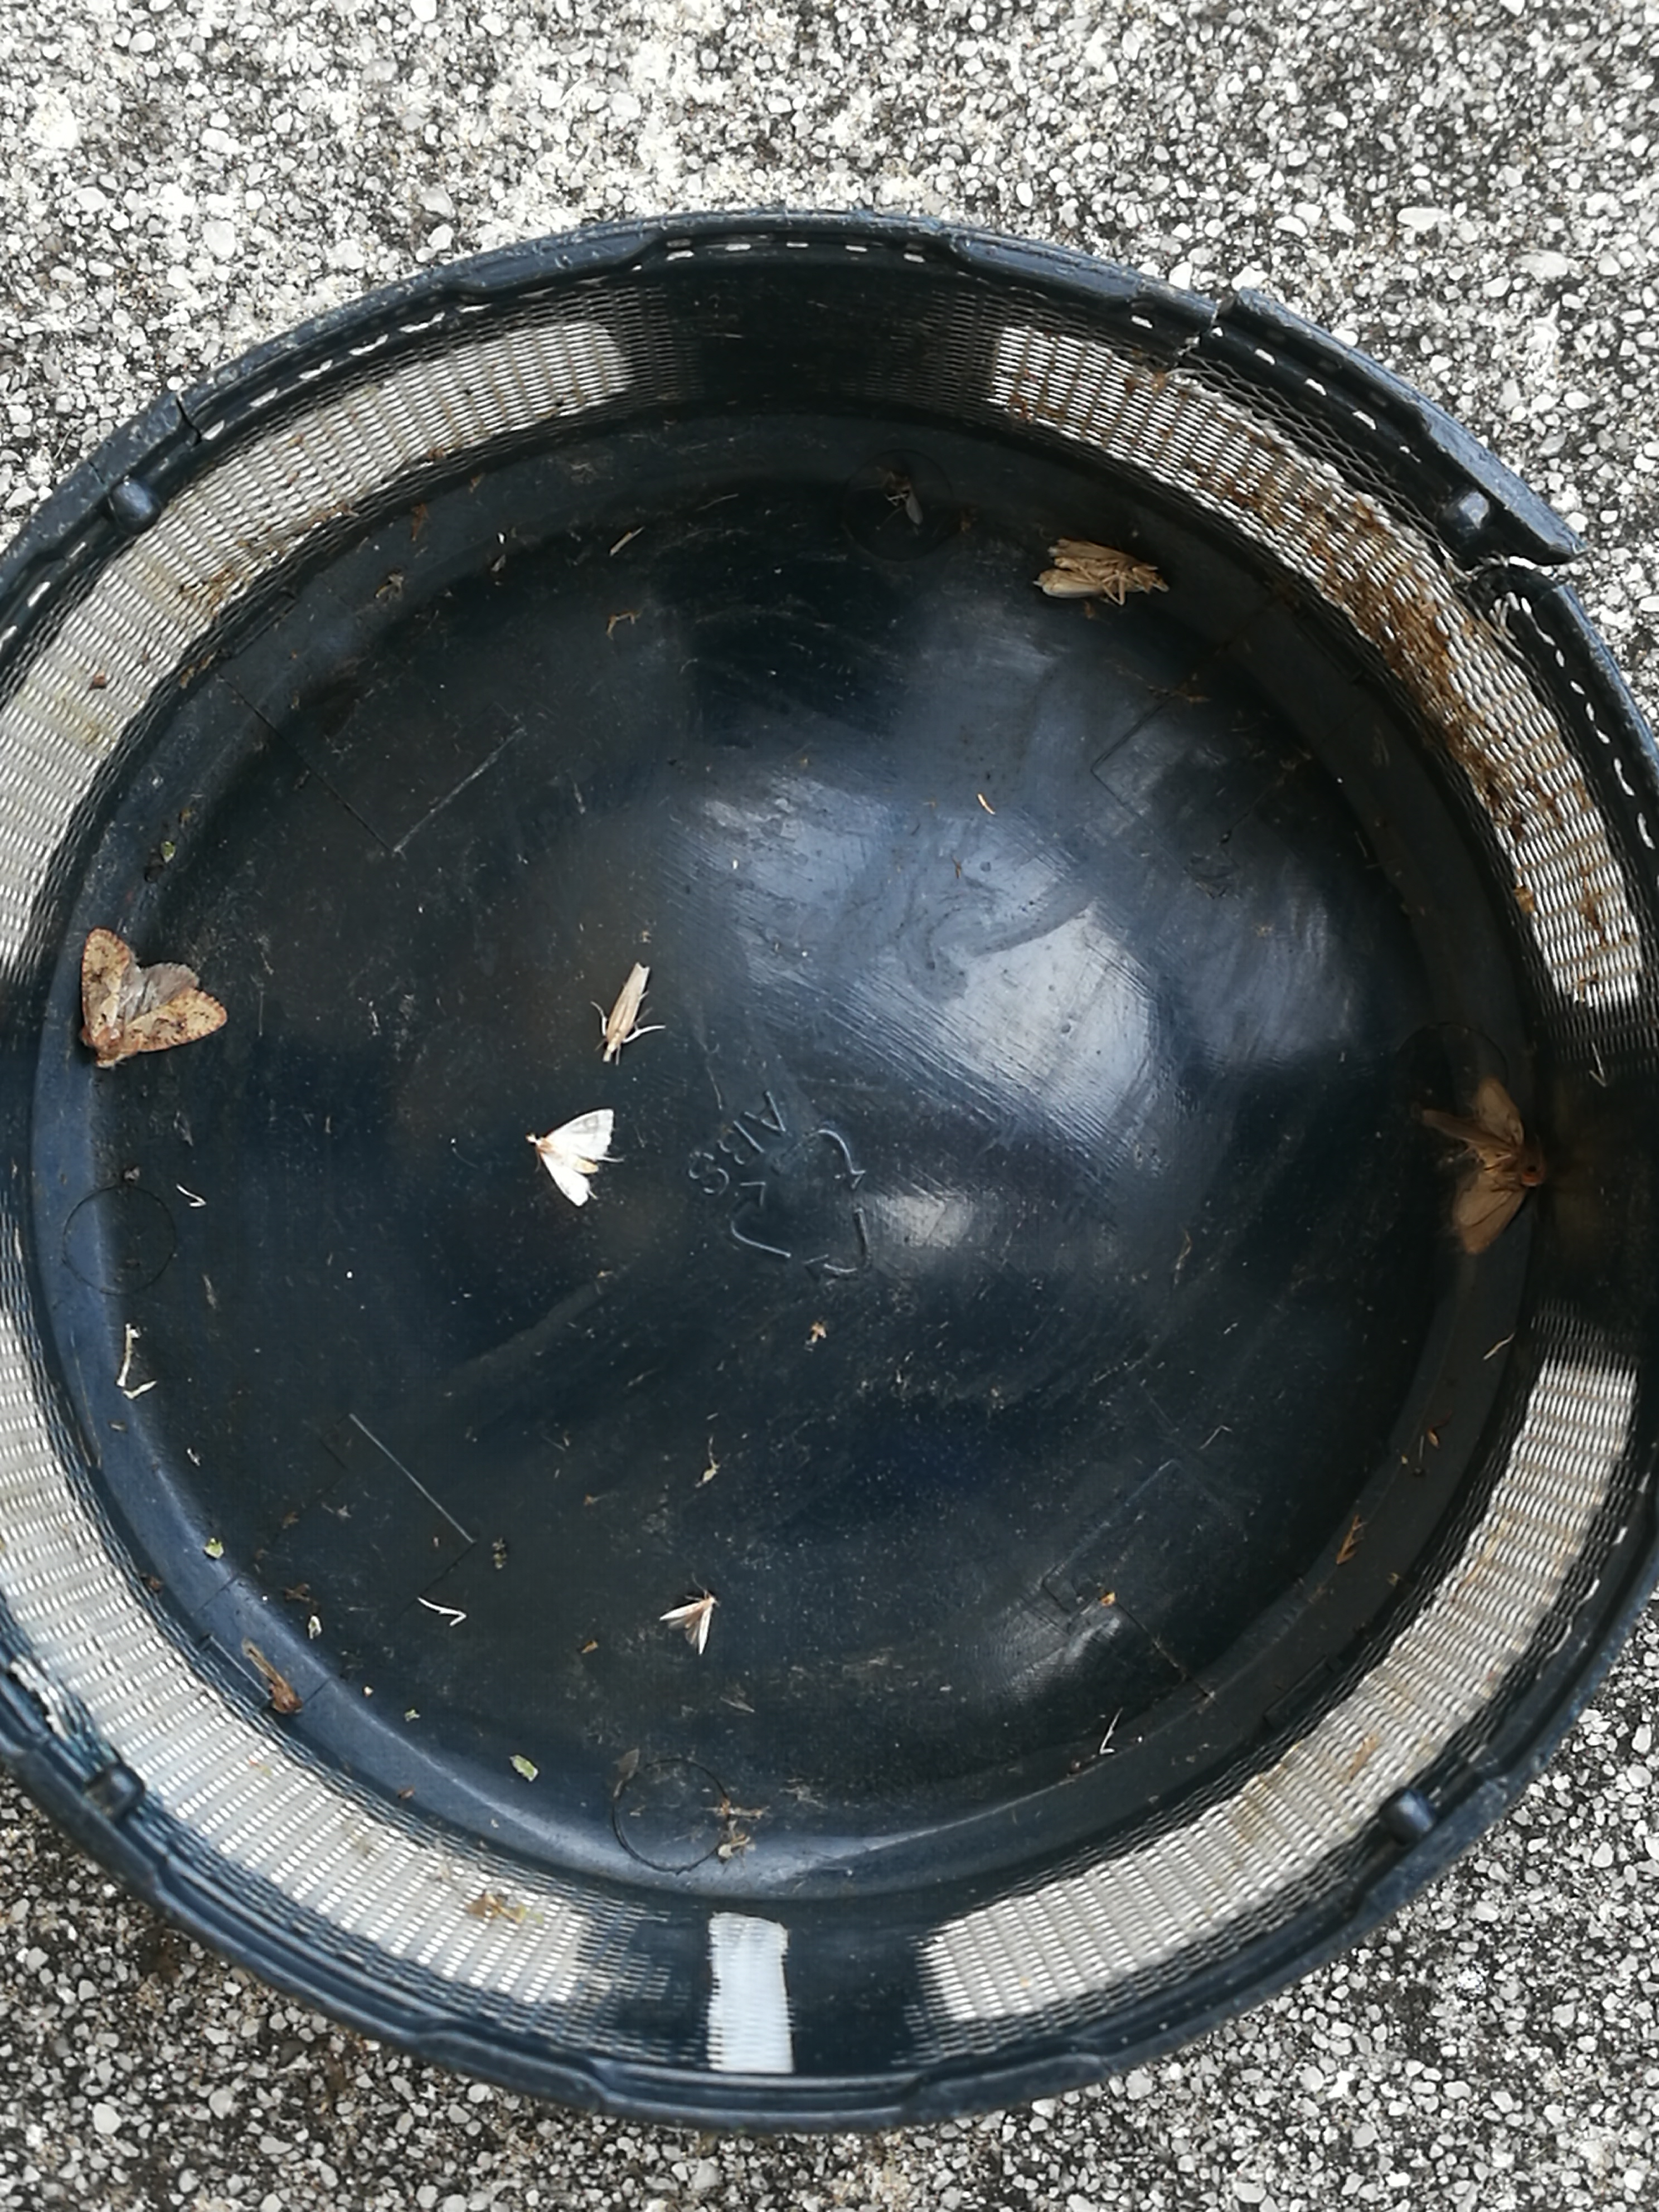mosquito: (601, 963, 648, 1061), (892, 472, 924, 523)
moth: (1425, 1073, 1544, 1252), (78, 928, 228, 1066), (528, 1108, 615, 1205), (1039, 538, 1168, 596), (659, 1595, 713, 1653)
